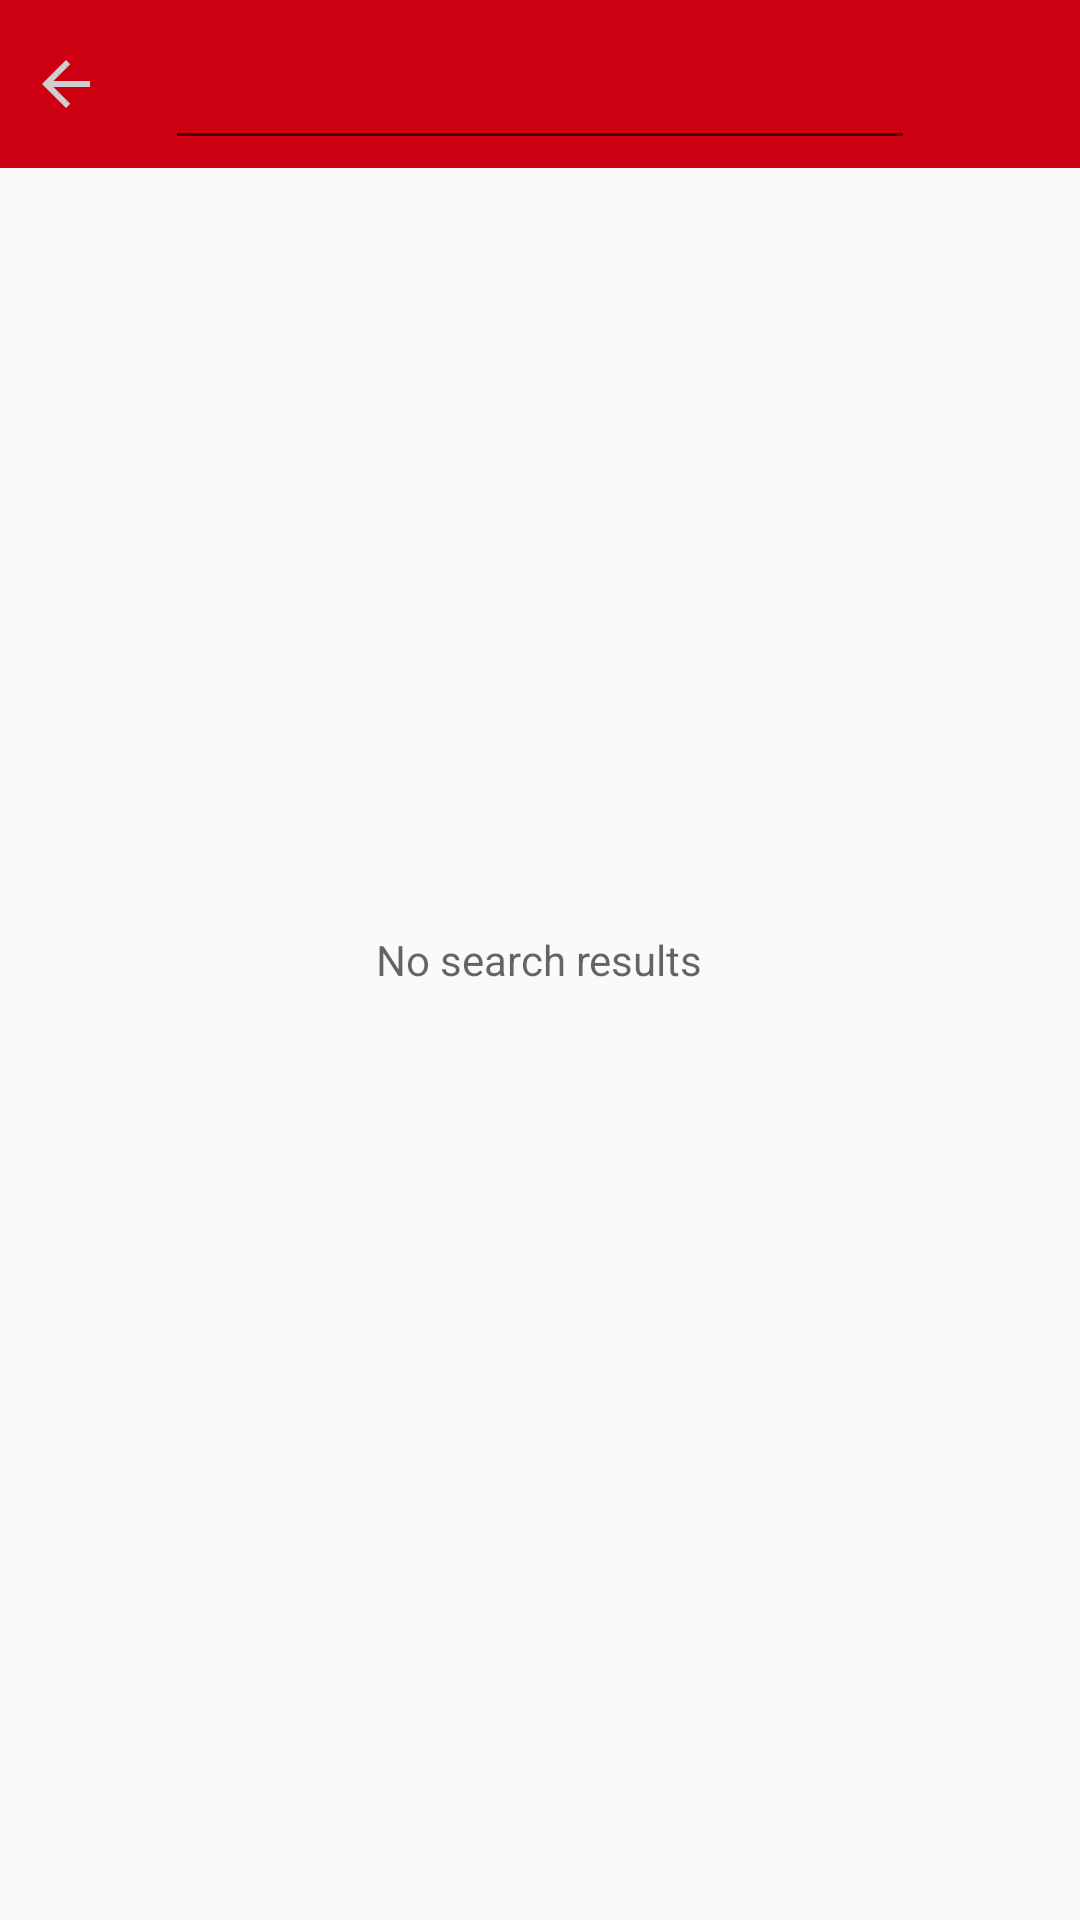

Icons on this 1080×1920 Android screen, each with the point to tap as point (x, y):
back: point (66, 84)
